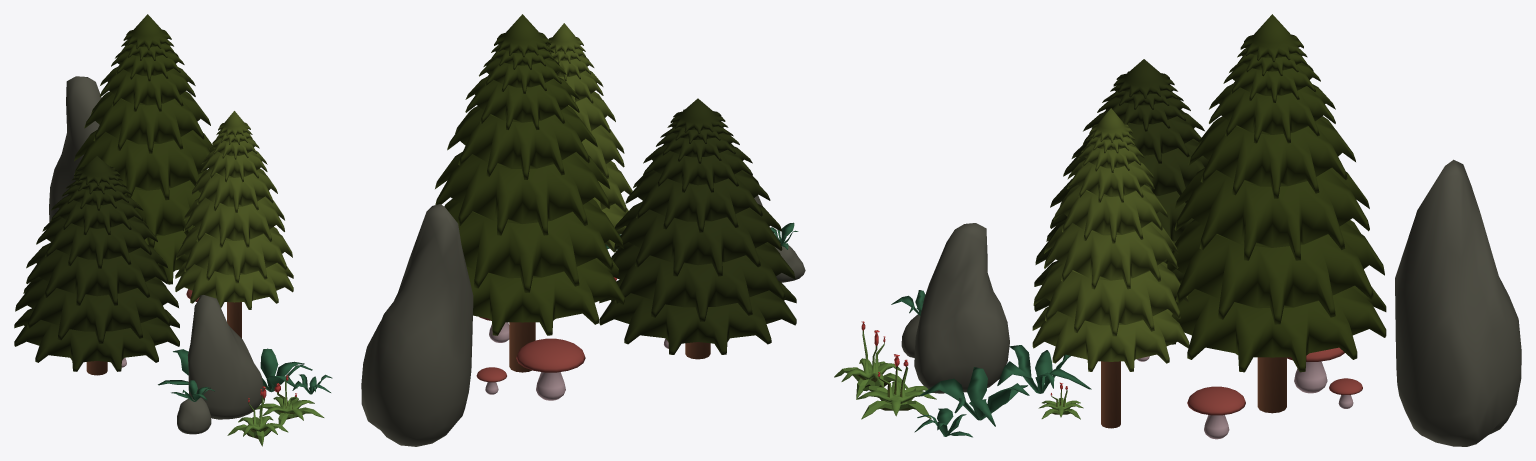
Rendered from set_pineshrubs_20210129.fbx.
3 views of the same model, side by side, from view 1: azimuth 30°, elevation 25°; view 2: azimuth 150°, elevation 25°; view 3: azimuth 270°, elevation 25° (orthographic). The views are drawn at different scales.
Visible parts, largest first — view 1: stone5.004; view 2: stone5.004; view 3: stone5.004.
Boxes of the visible parts, x1,y1,x2,y2 form: stone5.004: [14, 14, 332, 446]; stone5.004: [361, 14, 805, 446]; stone5.004: [834, 14, 1521, 446].
Bounding box in the file's own units: 2.85 × 3.37 × 5.16.
